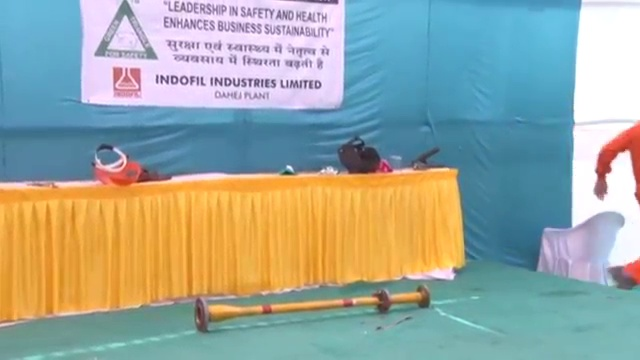person: (589, 117, 640, 287)
